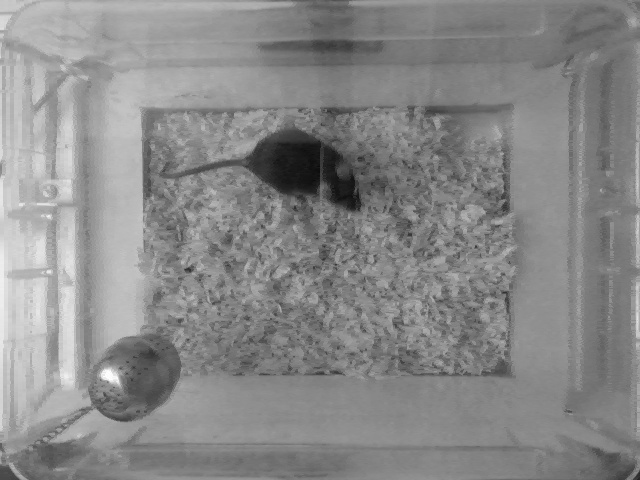mice: (158, 123, 365, 214)
